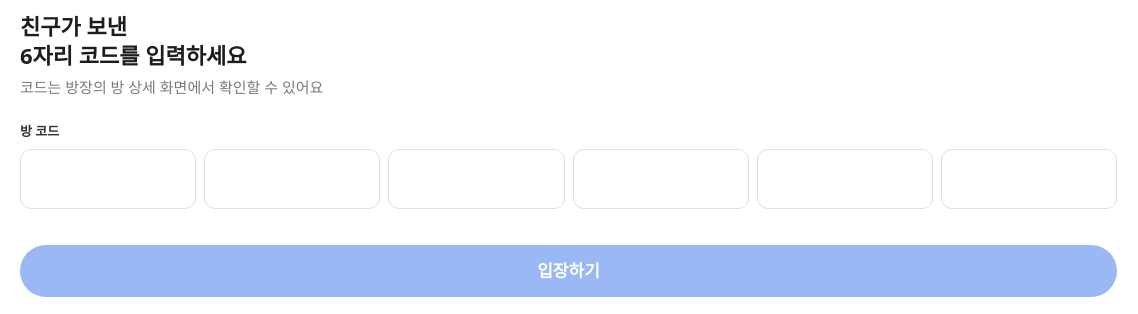
Scenario: JoinRoomForm › 입력하면 다음 칸으로 자동으로 넘어가고, 6자리를 채우면 활성된다
This screenshot has width=1138, height=314.
Click the field named "방 코드 1번째 자리" at (108, 179), box [20, 149, 196, 209]
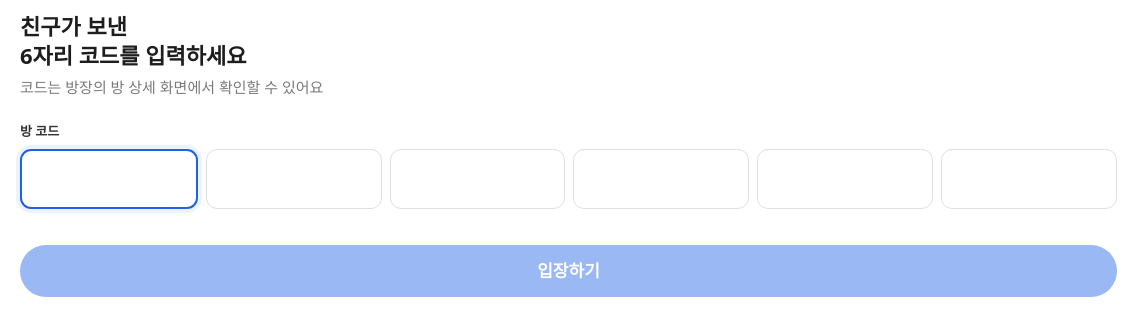
Type keys "abc123"
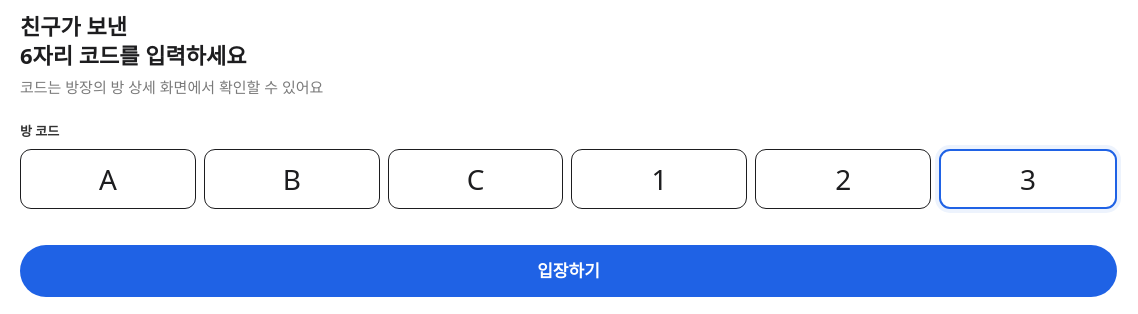
Check: the button "입장하기" is enabled, box [20, 245, 1117, 296]
